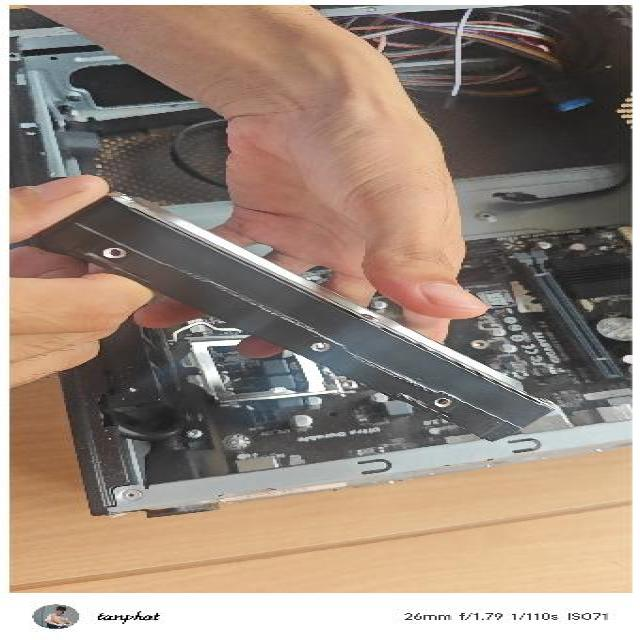DISK: (22, 183, 560, 442)
